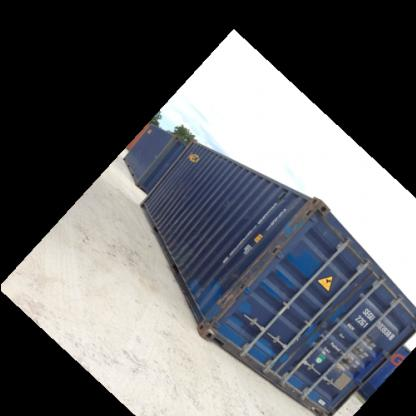Damage: (217, 262, 253, 310), (287, 197, 333, 232), (150, 193, 180, 224), (218, 187, 236, 211)
